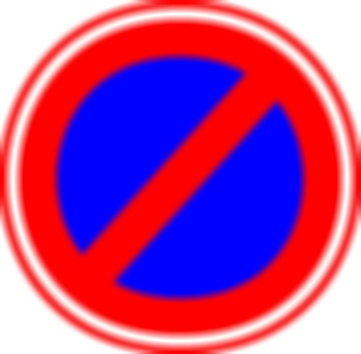Prohibition_sign: (6, 1, 358, 351)
